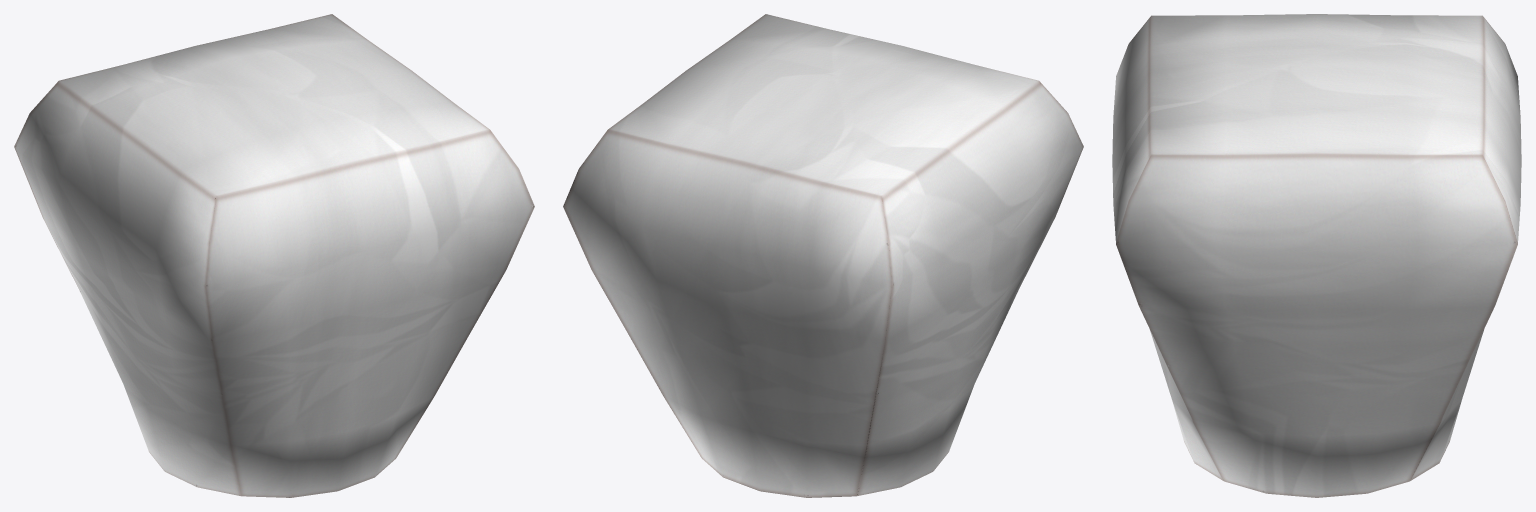
Rendered from paperA.fbx.
The picture shows the model from 3 angles, left to right: view 1: azimuth 30°, elevation 25°; view 2: azimuth 150°, elevation 25°; view 3: azimuth 270°, elevation 25°; orthographic projection. The views are drawn at different scales.
Parts seen in each view (by area): view 1: lanthanum; view 2: lanthanum; view 3: lanthanum.
Part boxes in pixels (left/top/right/bottom): lanthanum: left=14, top=14, right=534, bottom=497; lanthanum: left=563, top=14, right=1083, bottom=497; lanthanum: left=1112, top=14, right=1521, bottom=497.
Bounding box in the file's own units: 329 × 336 × 329.
Materials: 1 (1 with a texture image).
